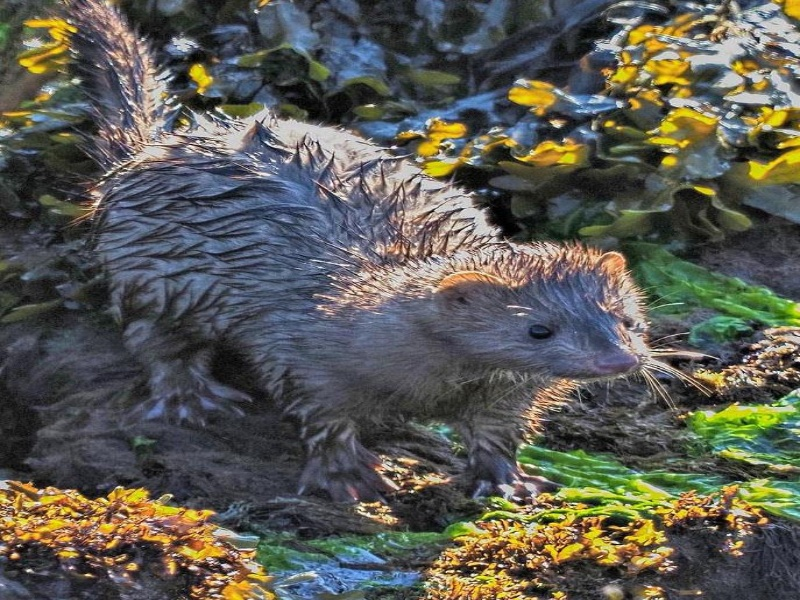minkish: (65, 11, 653, 510)
